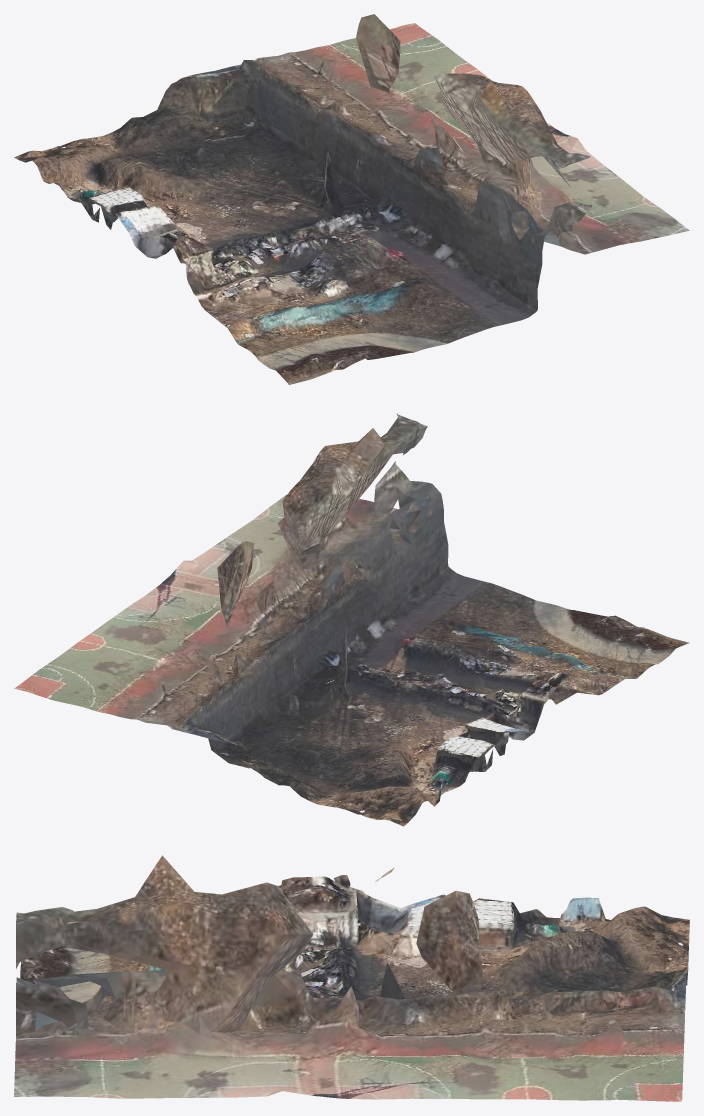
Rendered from Tile_+000_+000_L19_0uuuu120.glb.
The picture shows the model from 3 angles, top to bottom: view 1: azimuth 30°, elevation 25°; view 2: azimuth 150°, elevation 25°; view 3: azimuth 270°, elevation 25°; orthographic projection. The views are drawn at different scales.
Visible parts, largest first — view 1: rtc; view 2: rtc; view 3: rtc.
Boxes of the visible parts, x1,y1,x2,y2 form: rtc: (14, 14, 689, 384); rtc: (14, 413, 689, 826); rtc: (14, 855, 689, 1101).
Bounding box in the file's own units: 40.35 × 18.8 × 49.35.
Materials: 4 (4 with a texture image).
